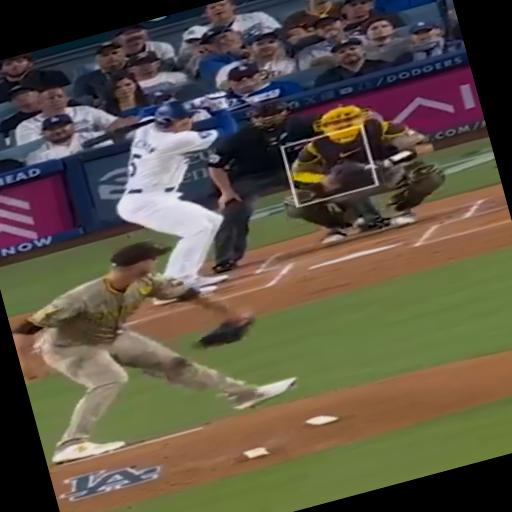bat: (79, 100, 198, 148)
